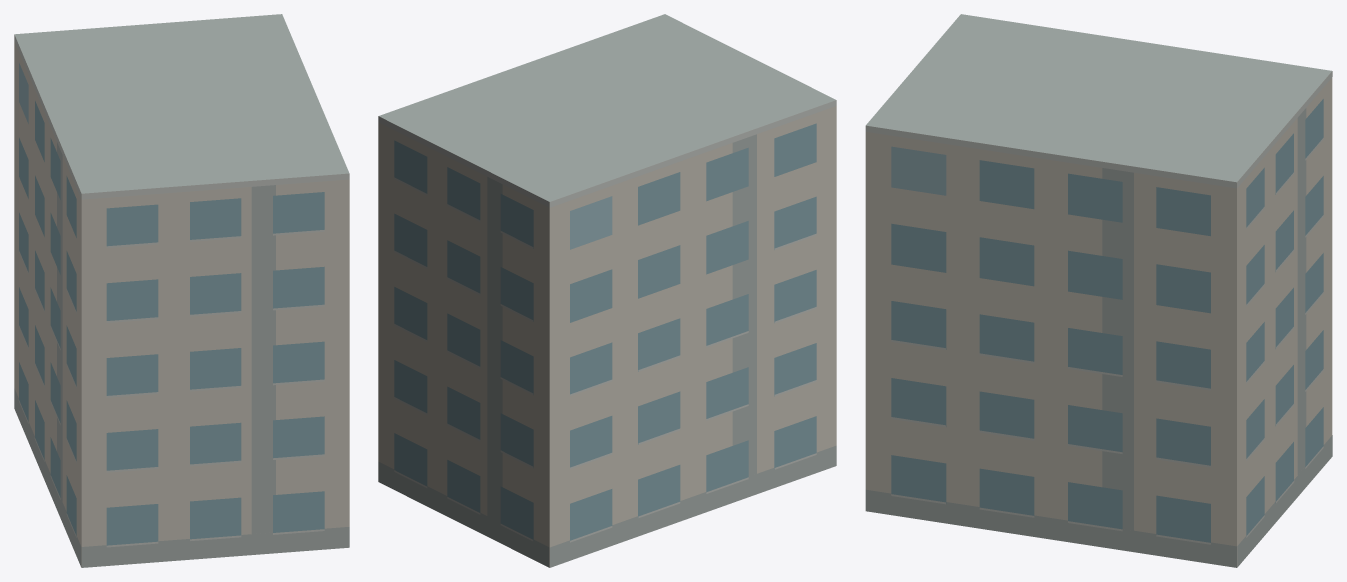
File: residential-3f0ba563-676c-4871-9010-ca0614cc0e2a.glb
3 views of the same model, side by side, from view 1: azimuth 30°, elevation 25°; view 2: azimuth 150°, elevation 25°; view 3: azimuth 270°, elevation 25° (orthographic). The views are drawn at different scales.
Parts seen in each view (by area): view 1: residential-3f0ba563-676c-4871-9010-ca0614cc0e2a.tmp; view 2: residential-3f0ba563-676c-4871-9010-ca0614cc0e2a.tmp; view 3: residential-3f0ba563-676c-4871-9010-ca0614cc0e2a.tmp.
Boxes of the visible parts, <box> form: residential-3f0ba563-676c-4871-9010-ca0614cc0e2a.tmp: <box>14,14,349,567</box>; residential-3f0ba563-676c-4871-9010-ca0614cc0e2a.tmp: <box>378,14,836,567</box>; residential-3f0ba563-676c-4871-9010-ca0614cc0e2a.tmp: <box>865,14,1332,567</box>.
Bounding box in the file's own units: 14.28 × 15.25 × 16.74.
